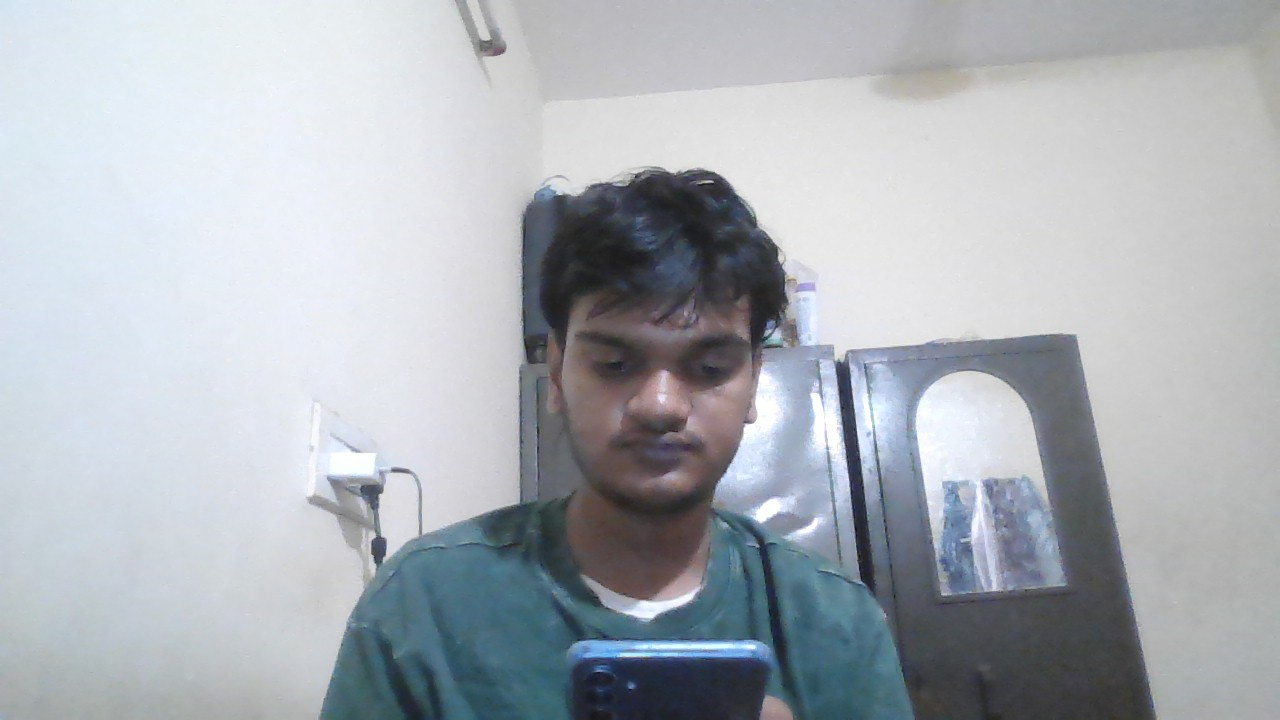phone: (564, 643, 775, 719)
